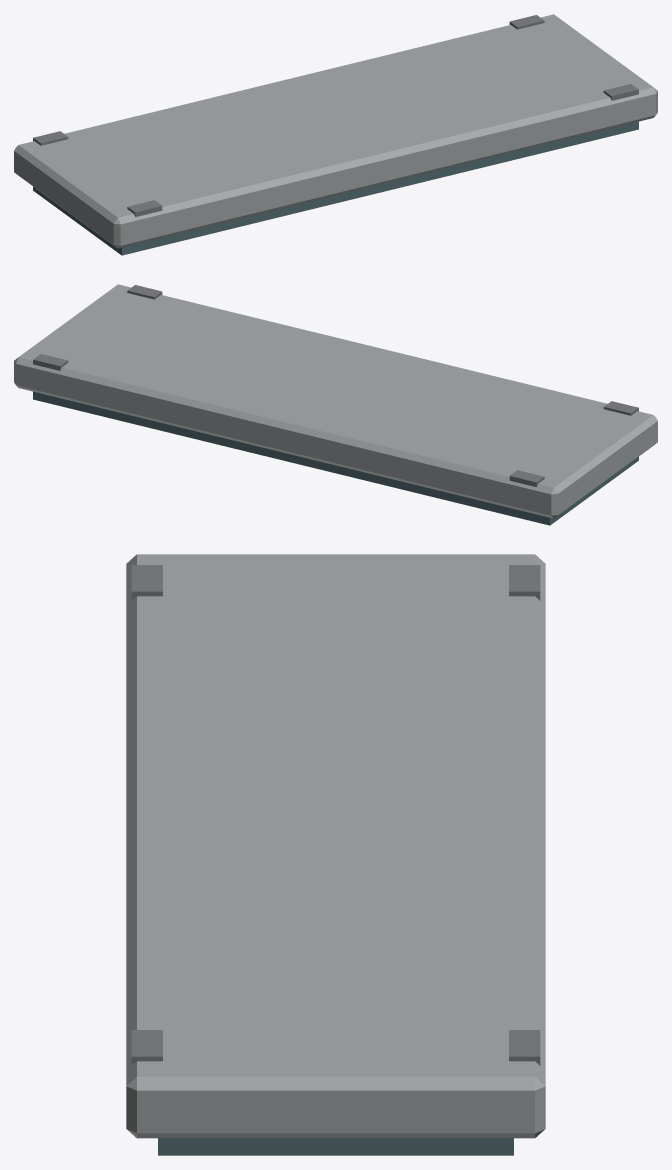
File: astro_ceiling_light_panel.fbx
3 renders of one model, top to bottom at view 1: azimuth 30°, elevation 25°; view 2: azimuth 150°, elevation 25°; view 3: azimuth 270°, elevation 25°, orthographic. The views are drawn at different scales.
Parts seen in each view (by area): view 1: CeilingLightPanel_Body; view 2: CeilingLightPanel_Body; view 3: CeilingLightPanel_Body.
Boxes of the visible parts, box(x1,y1,x2,y2) form: CeilingLightPanel_Body: box(14, 14, 657, 255); CeilingLightPanel_Body: box(14, 284, 657, 525); CeilingLightPanel_Body: box(126, 554, 545, 1155).
Bounding box in the file's own units: 240 × 19.5 × 80.
